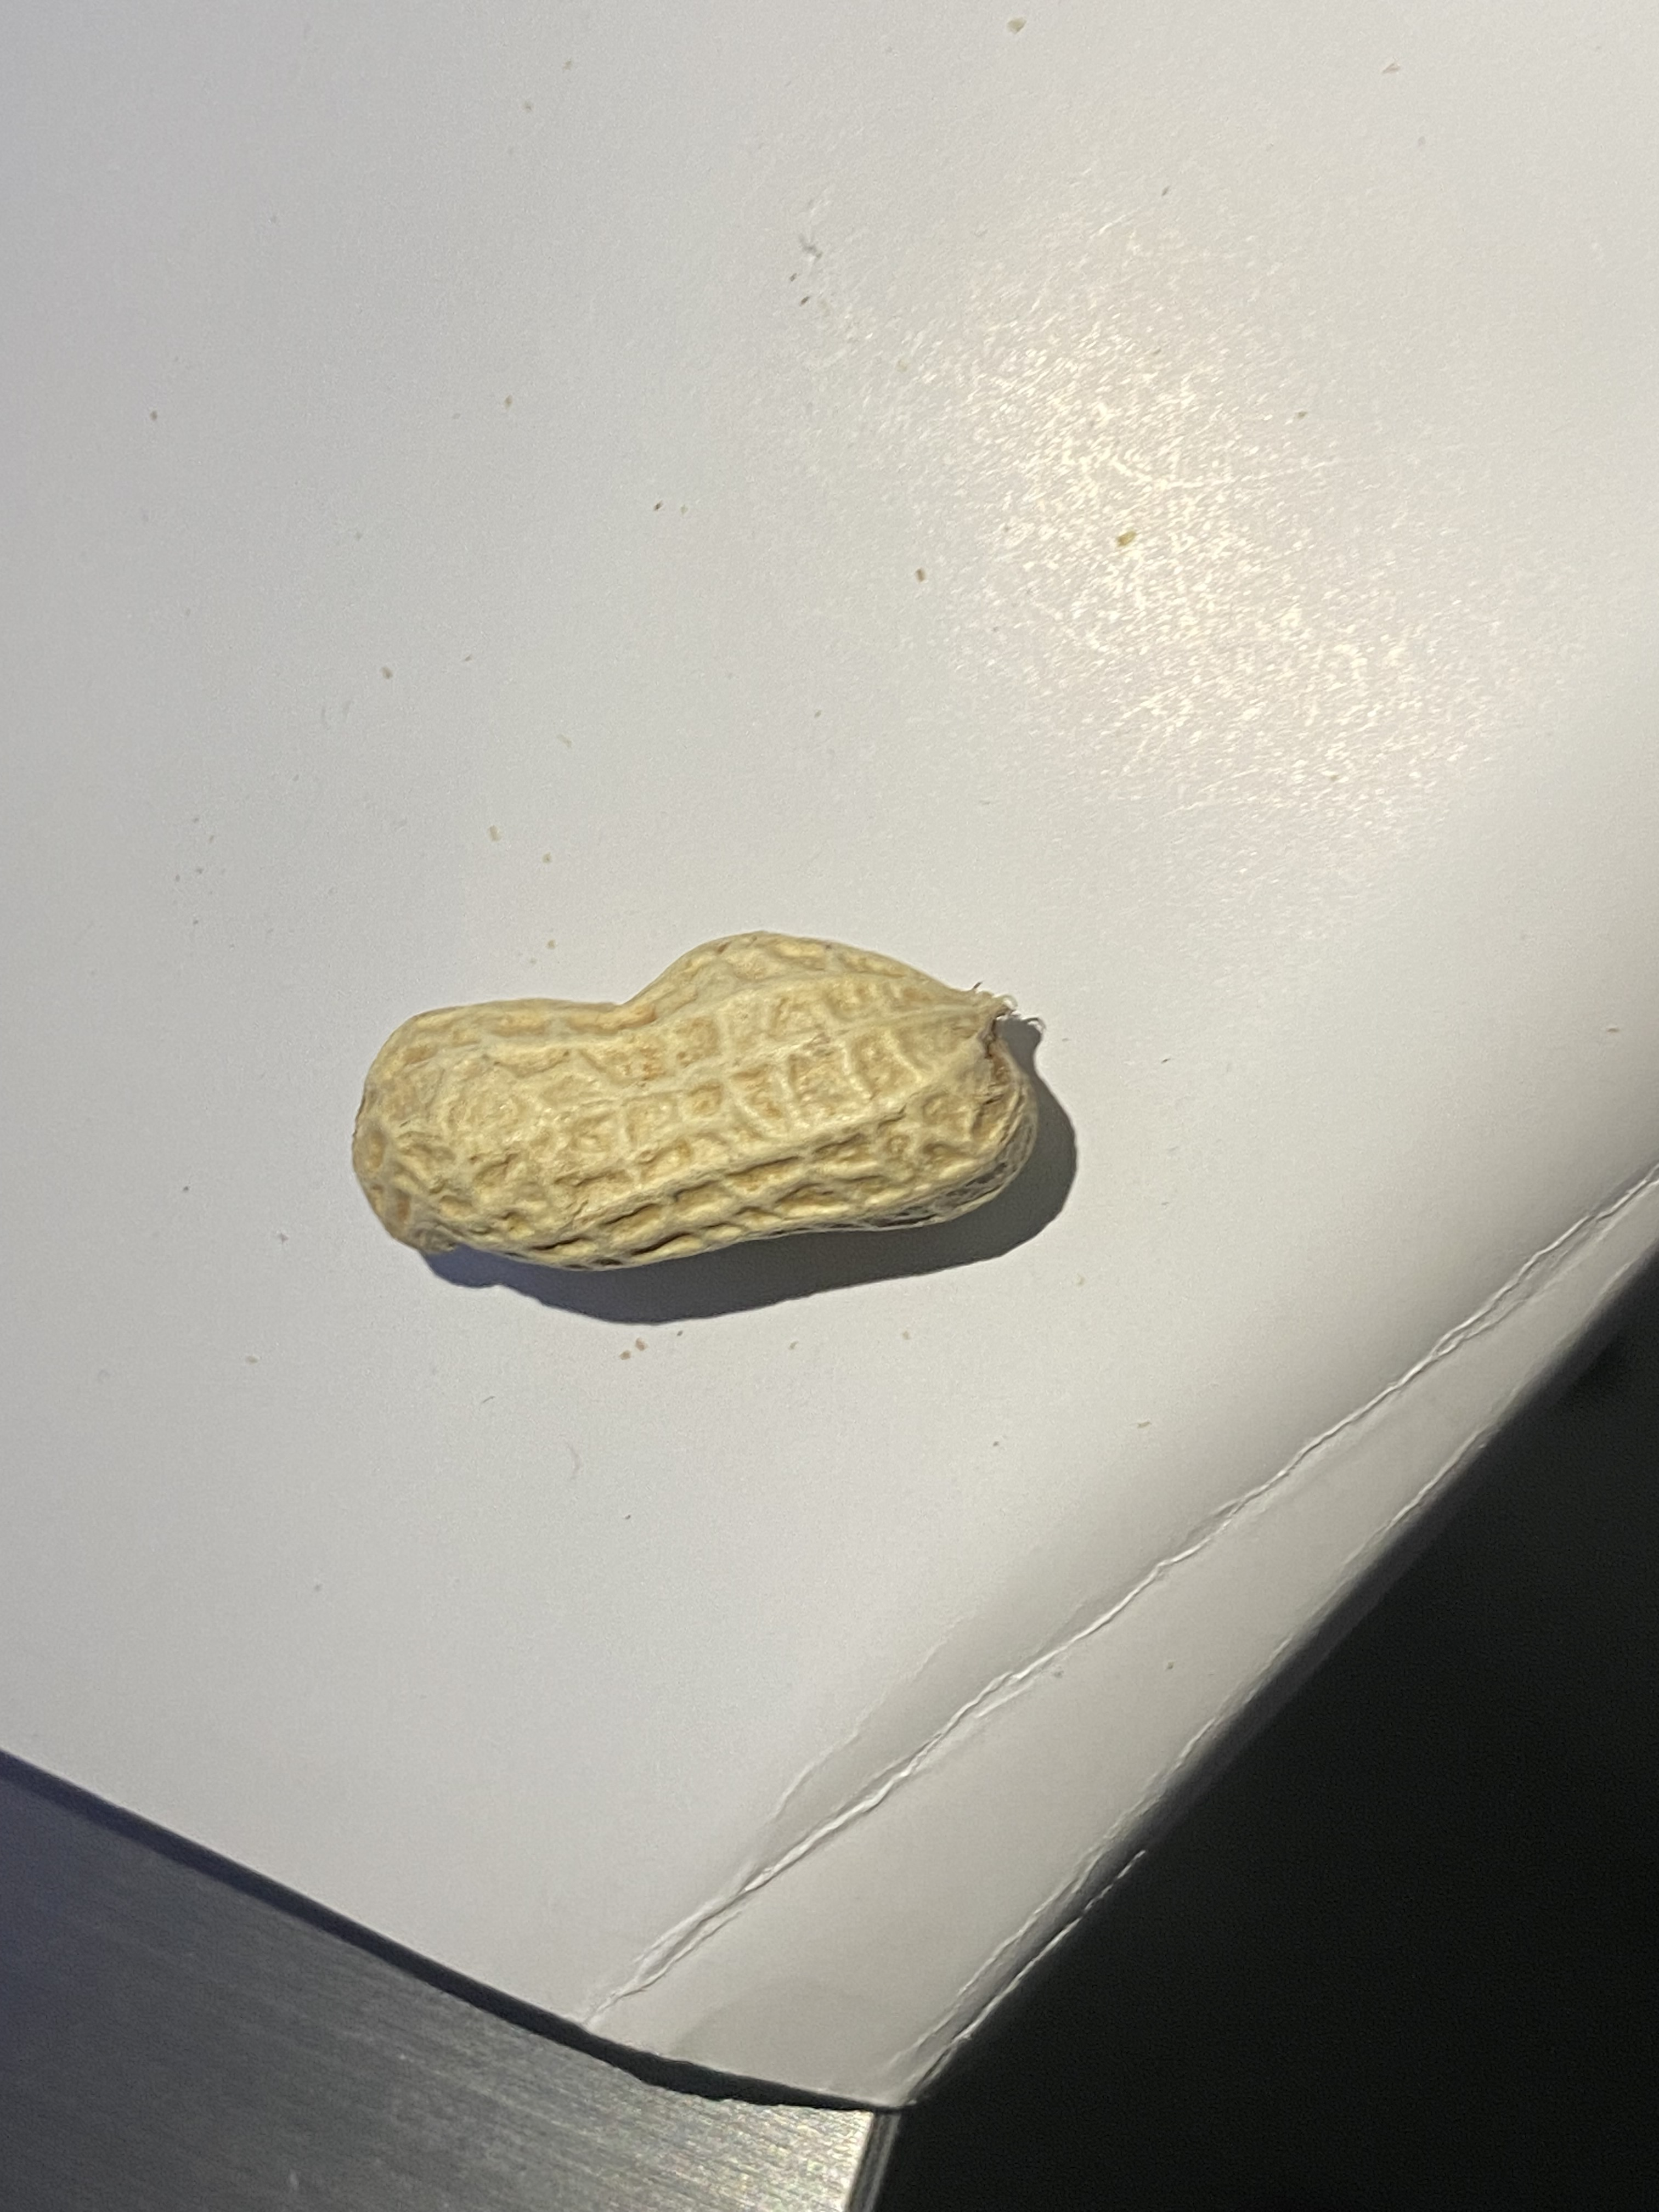kacang2: (347, 894, 1047, 1308)
